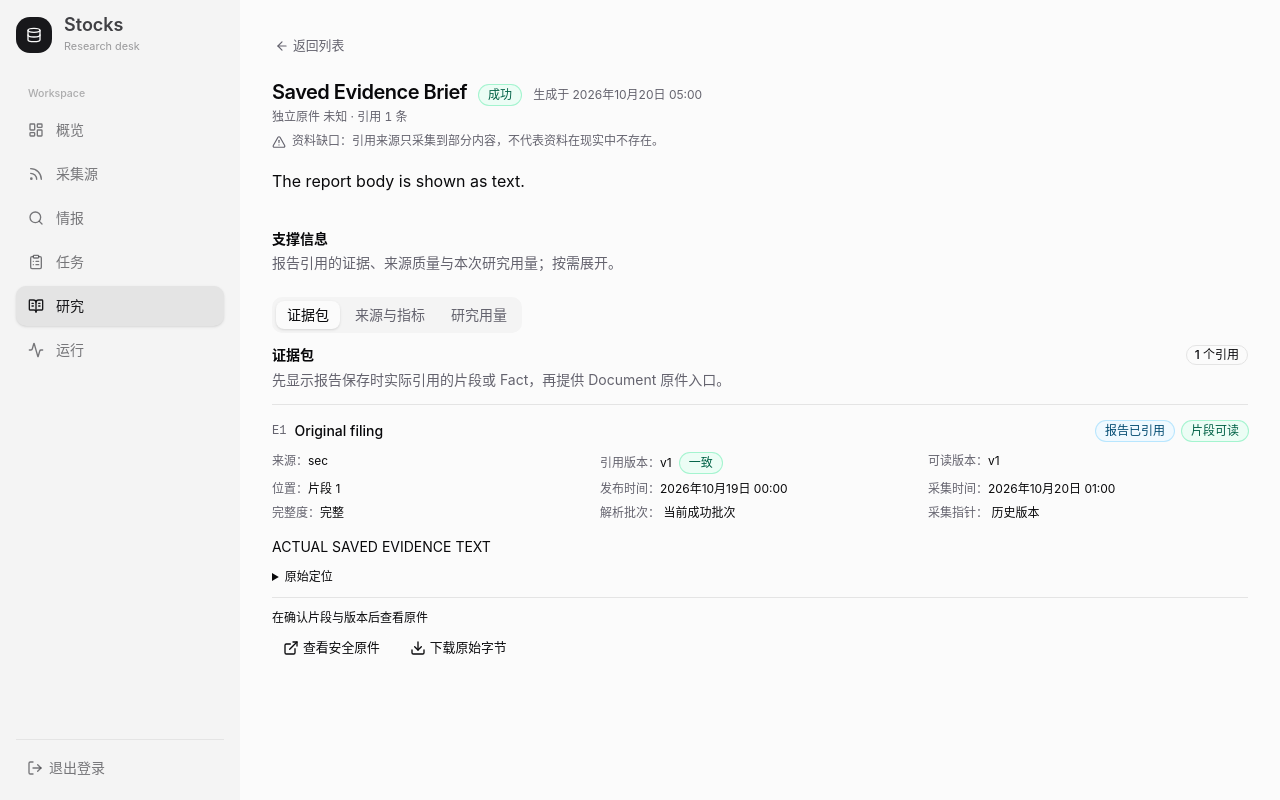
Test: ResearchDetailPage › shows the single trust line and keeps the body as the first content
Expected: the text "The report body is shown as text." is shown, [272,171,525,191]
Expected: the text "独立原件 未知 · 引用 1 条" is shown once, [272,109,407,124]
# 返回列表回到列表页。
Click the button "返回列表" at [310, 46], box [264,32,355,60]
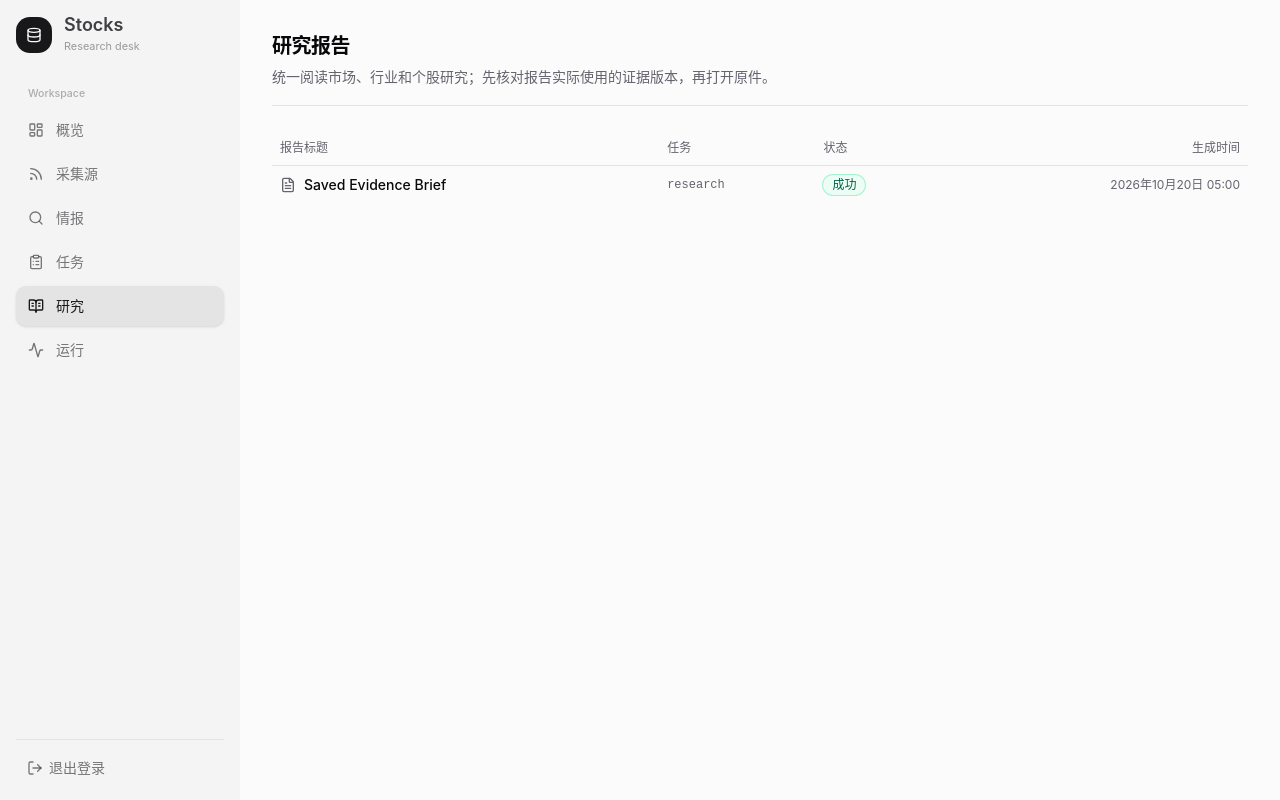
Expected: the table named "报告列表" is shown, [272,130,1248,203]
